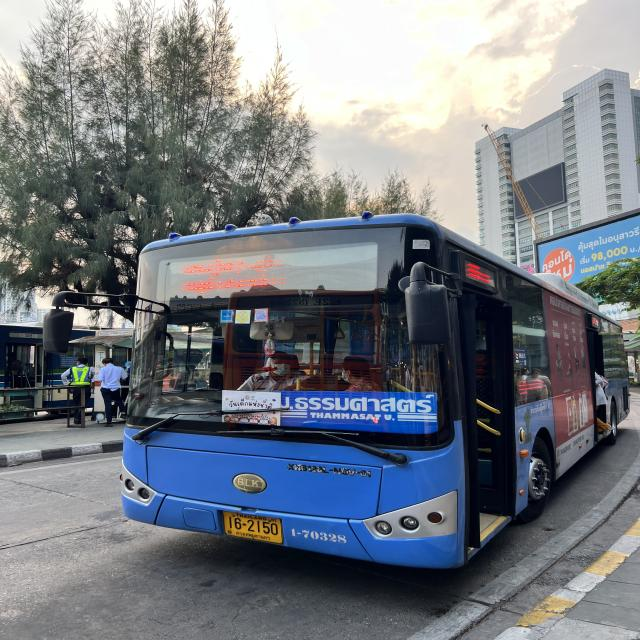BMTA-bus: (119, 214, 628, 573)
Bus Line Number: (288, 247, 383, 290)
Bus Side Number: (284, 519, 357, 551)
Destination Sign: (275, 388, 441, 434)
